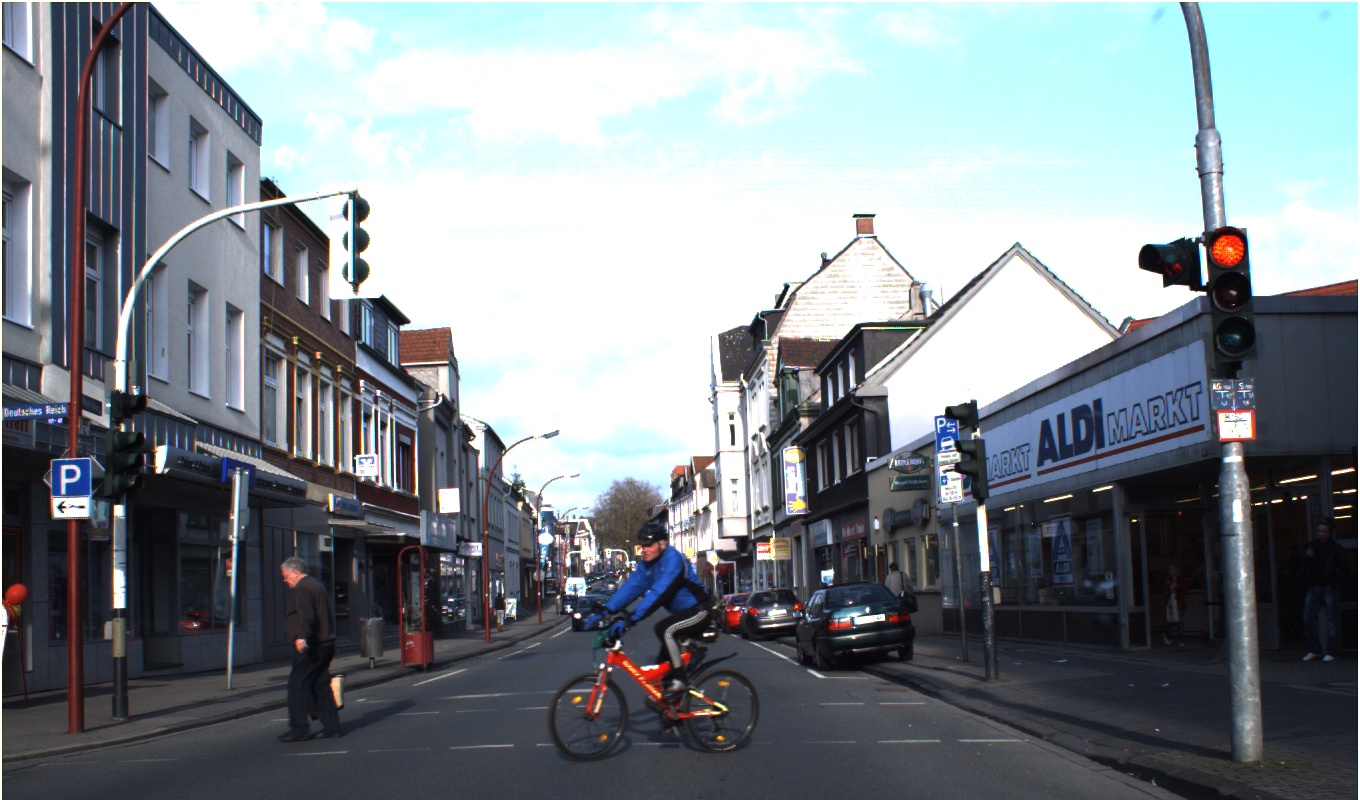car: (799, 590, 918, 667), (748, 598, 804, 636), (577, 597, 607, 631), (727, 595, 749, 632), (563, 576, 584, 598), (563, 597, 579, 617), (592, 573, 601, 579), (617, 568, 626, 573), (585, 583, 596, 587), (584, 575, 593, 579), (601, 574, 607, 579), (605, 572, 614, 575)
pedestrian: (633, 542, 717, 750), (281, 550, 350, 758), (888, 561, 920, 612), (495, 593, 507, 631)
red: (1215, 214, 1259, 379), (1148, 235, 1209, 325)
